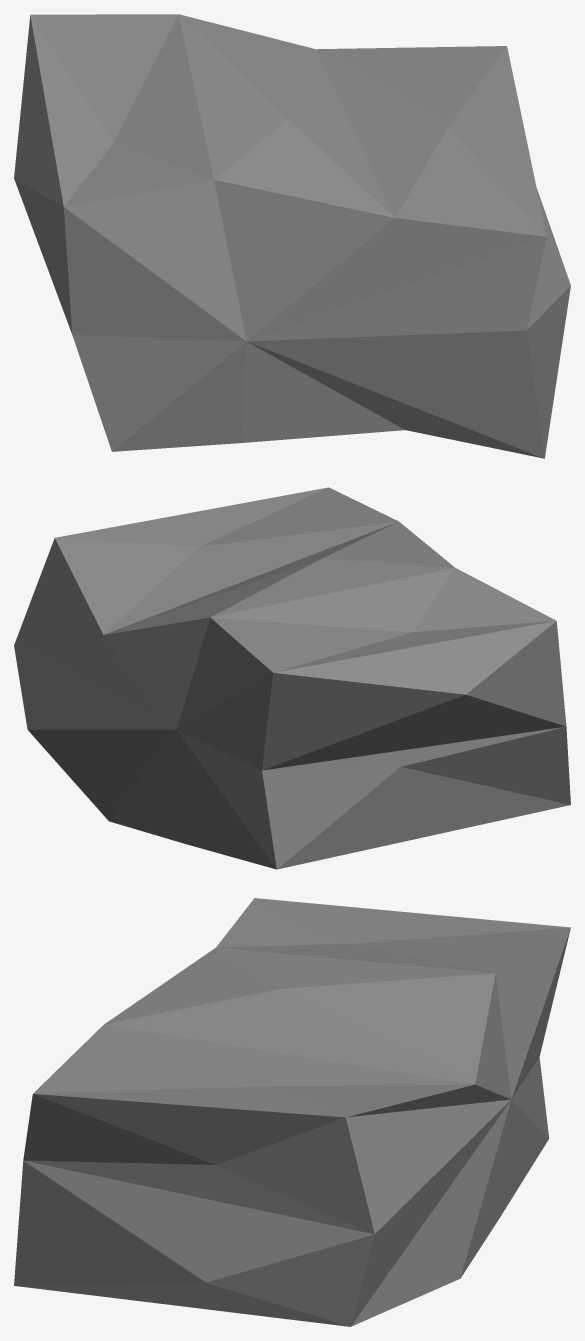
Rendered from rock_03_c.fbx.
3 renders of one model, top to bottom at view 1: azimuth 30°, elevation 25°; view 2: azimuth 150°, elevation 25°; view 3: azimuth 270°, elevation 25°, orthographic. The views are drawn at different scales.
Visible parts, largest first — view 1: Rock_03_c; view 2: Rock_03_c; view 3: Rock_03_c.
Part boxes in pixels (x1=…): Rock_03_c: x1=14, y1=14, x2=570, y2=458; Rock_03_c: x1=14, y1=487, x2=570, y2=869; Rock_03_c: x1=14, y1=898, x2=570, y2=1326.
Bounding box in the file's own units: 20.47 × 20.28 × 10.75.
